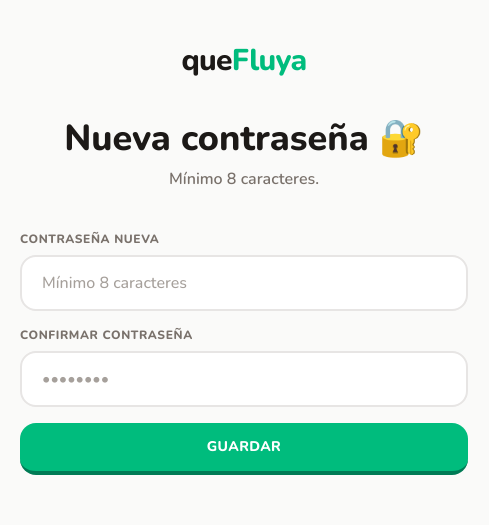
Test case: <ResetPasswordPage /> › rejects mismatched passwords
Type "longenough1" into the password field labelled "Contraseña nueva" at (244, 283), box [20,255,468,311]
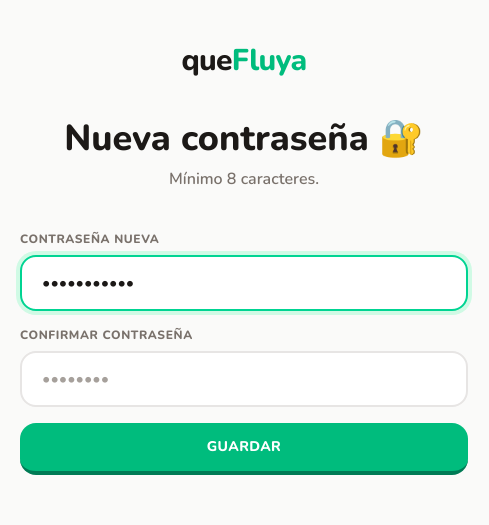
Type "different12" into the password field labelled "Confirmar contraseña" at (244, 379), box [20,351,468,407]
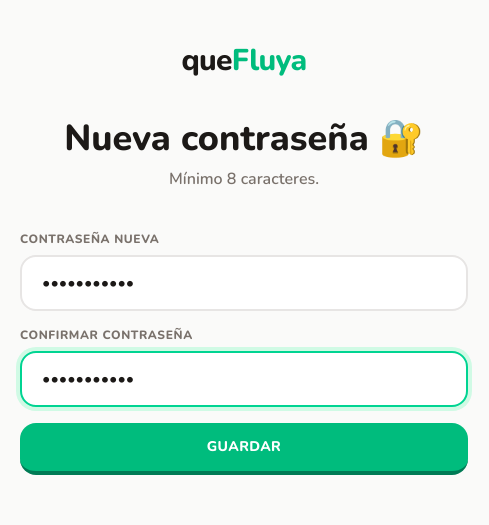
Click the button "Guardar" at (244, 449), box [20,423,468,475]
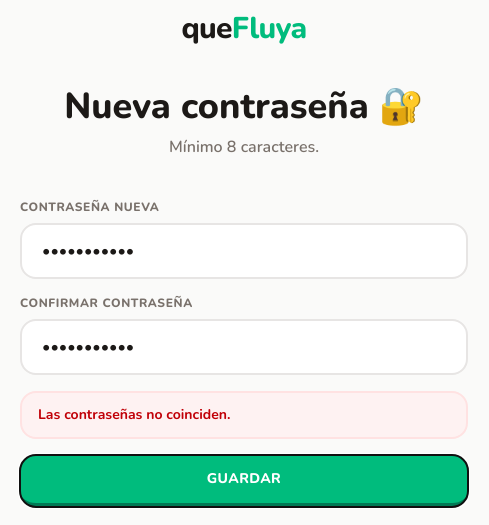
Expected: the text "Las contraseñas no coinciden." is shown, [20,391,468,439]
